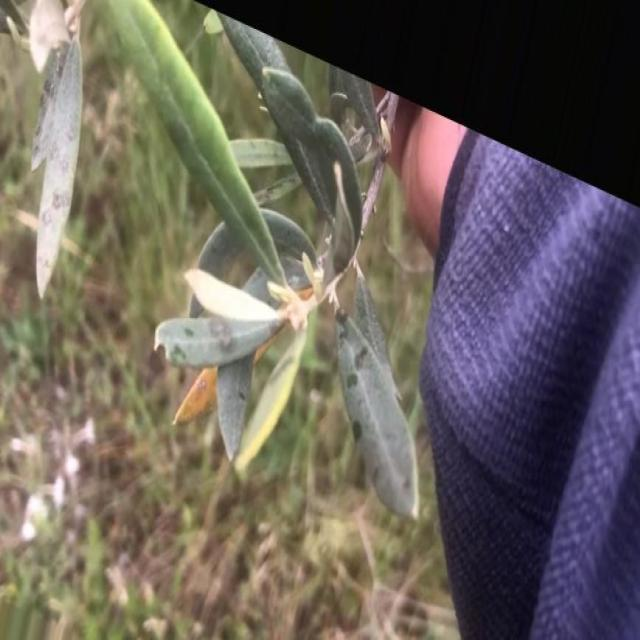OlivePeacockSpot: (338, 312, 418, 518), (32, 36, 82, 297), (154, 318, 285, 367)
